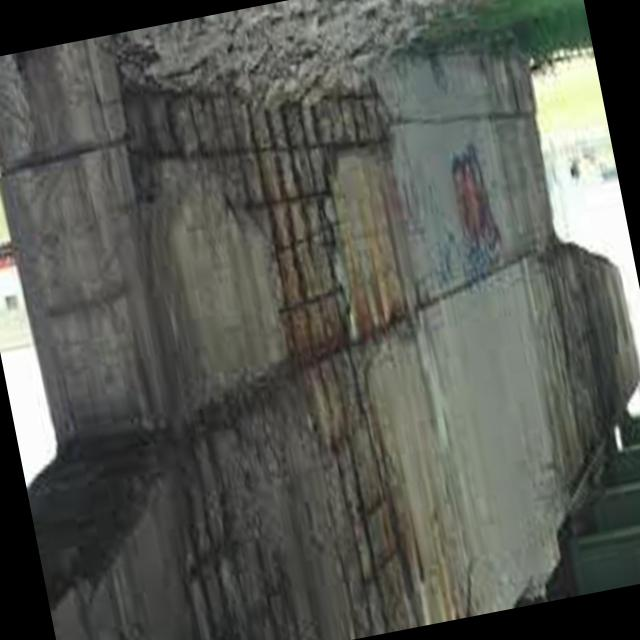spalling: (30, 72, 442, 640)
